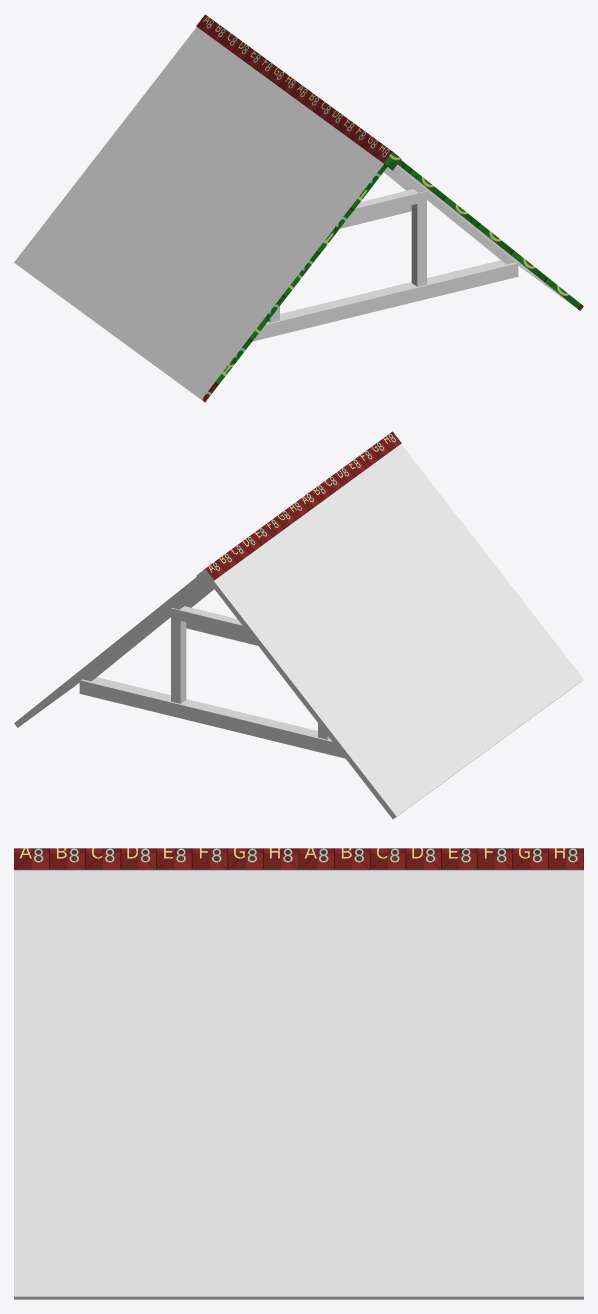
The model's file is CK Basic roof.dae.
The picture shows the model from 3 angles, top to bottom: view 1: azimuth 30°, elevation 25°; view 2: azimuth 150°, elevation 25°; view 3: azimuth 270°, elevation 25°; orthographic projection. The views are drawn at different scales.
Parts seen in each view (by area): view 1: Outer; view 2: Outer; view 3: Outer.
Part boxes in pixels (<box>): Outer: <box>14,14,583,402</box>; Outer: <box>14,431,583,819</box>; Outer: <box>14,848,583,1299</box>.
Size of the model in its own units: 5.89 by 5 by 3.02.
Materials: 7 (2 with a texture image).
